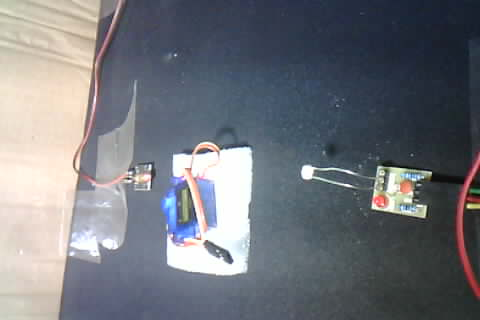motor: (155, 136, 266, 273)
